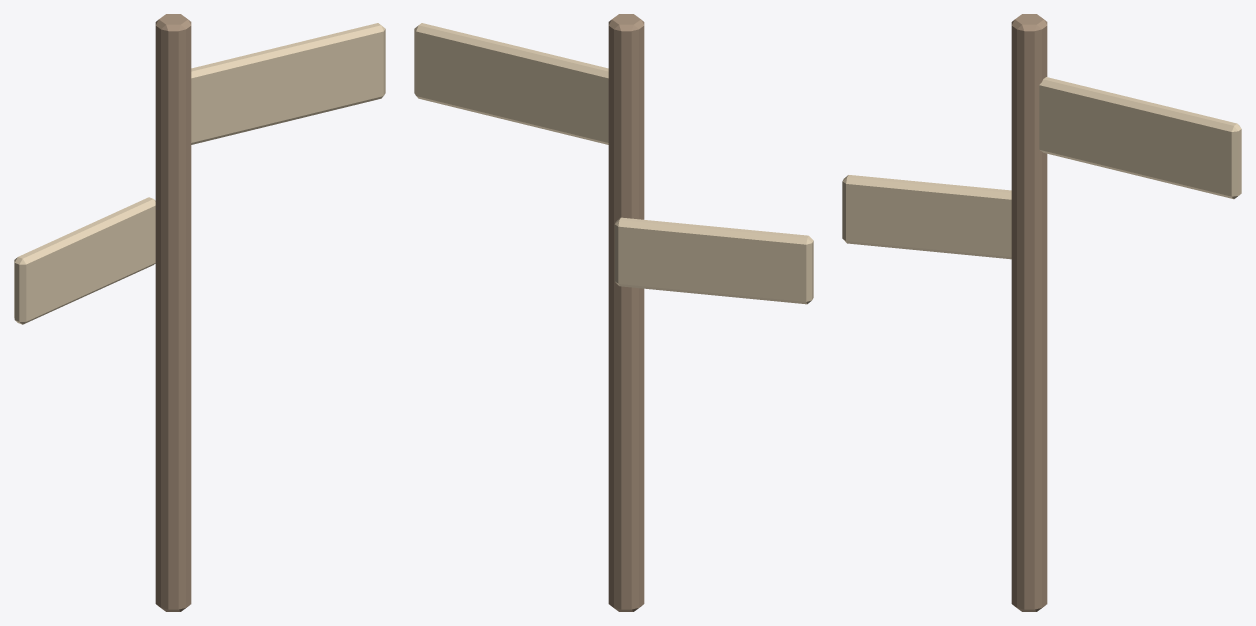
Rendered from signpost.glb.
3 renders of one model, left to right at view 1: azimuth 30°, elevation 25°; view 2: azimuth 150°, elevation 25°; view 3: azimuth 330°, elevation 25°, orthographic.
Visible parts, largest first — view 1: pole, sign1, sign2; view 2: pole, sign1, sign2; view 3: pole, sign1, sign2.
Part boxes in pixels (x1,y1,x2,y2): pole: (155, 14, 191, 611); sign1: (191, 23, 385, 144); sign2: (14, 197, 155, 324); pole: (608, 14, 644, 611); sign1: (414, 23, 608, 144); sign2: (614, 217, 813, 304); pole: (1011, 14, 1047, 611); sign1: (1039, 77, 1241, 199); sign2: (842, 175, 1011, 259).
Size of the model in its own units: 1.09 by 1.6 by 0.1789.
